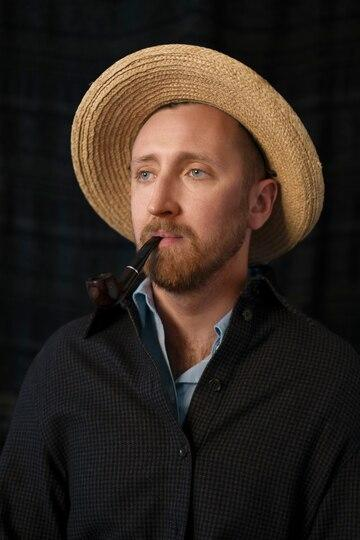trubka: (86, 236, 163, 308)
